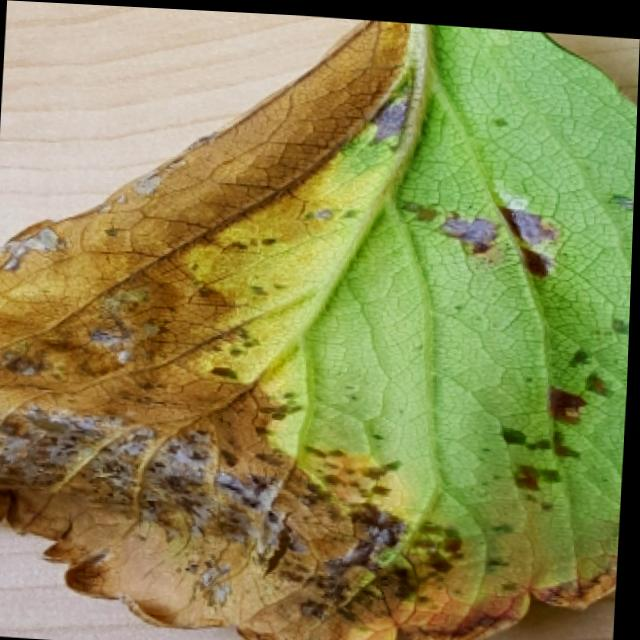Angular Leafspot: (0, 15, 638, 640)
